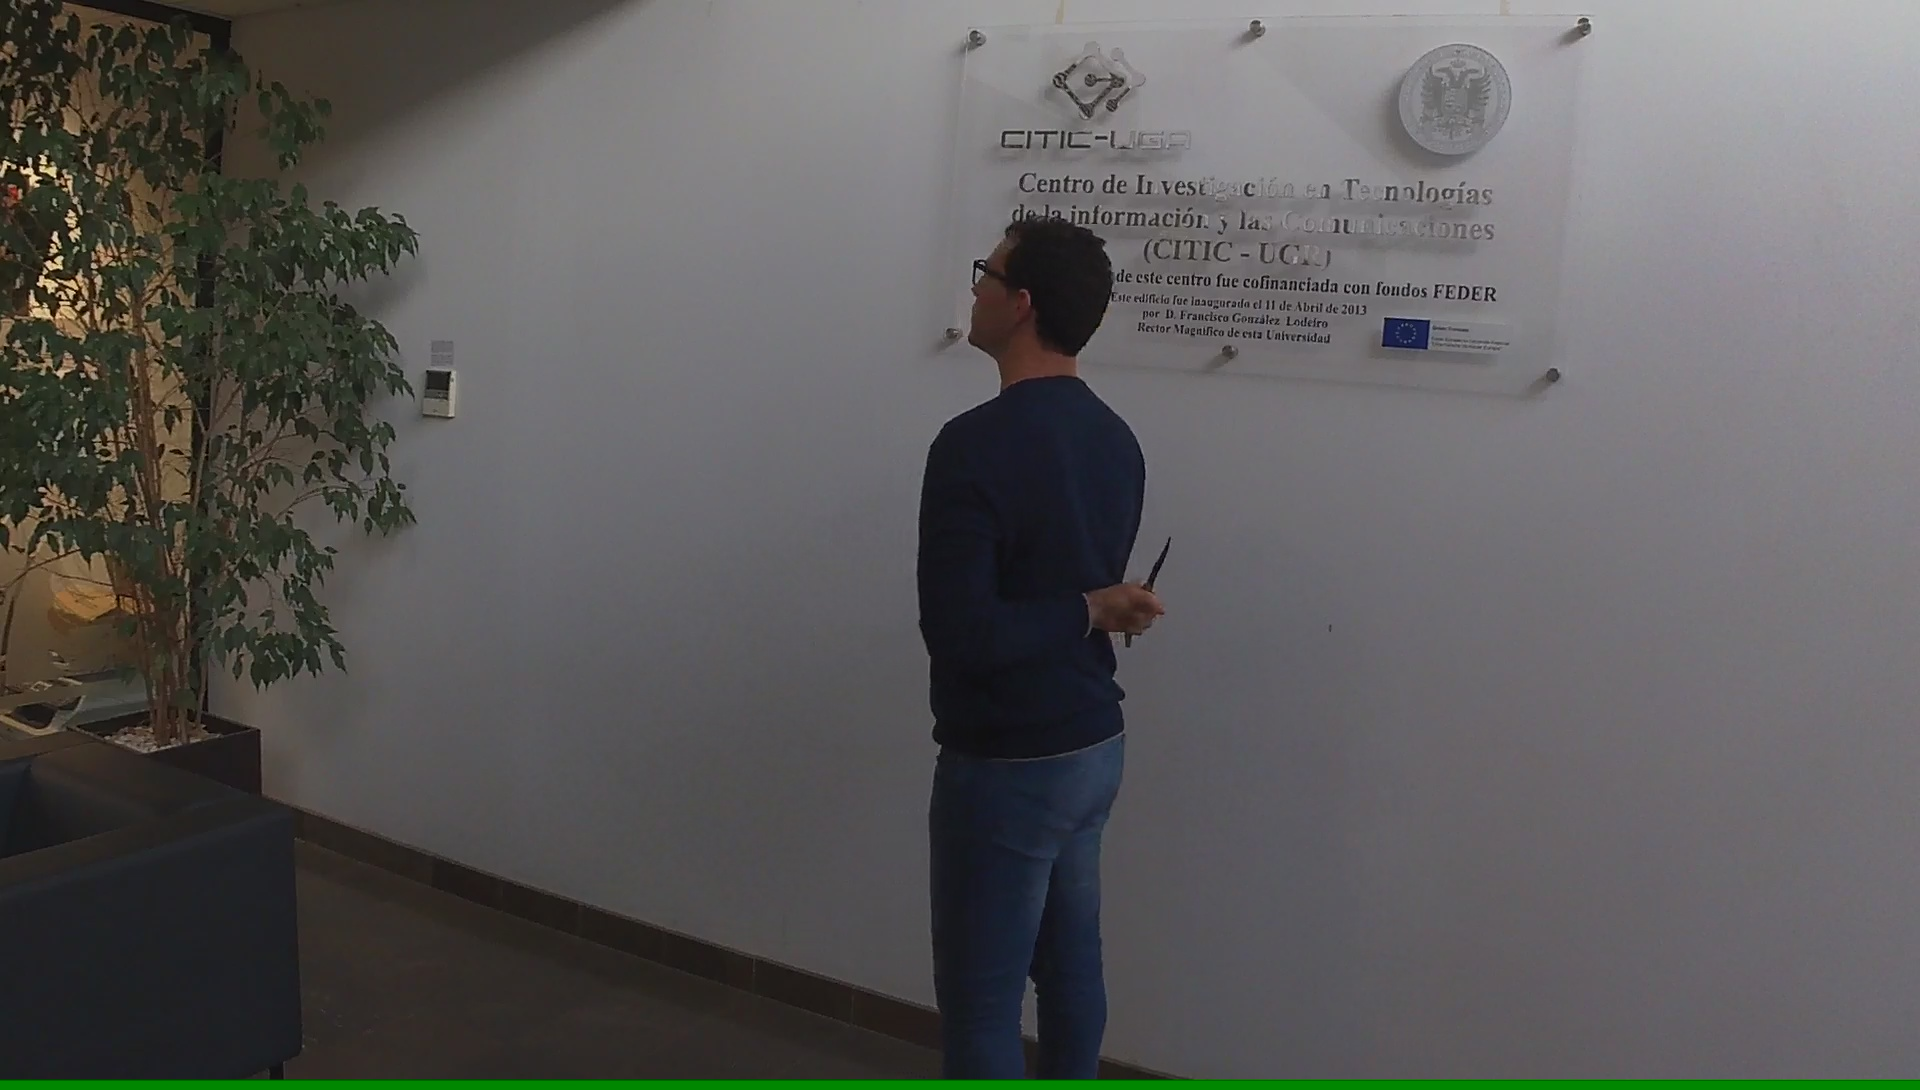knife: (1116, 523, 1180, 652)
